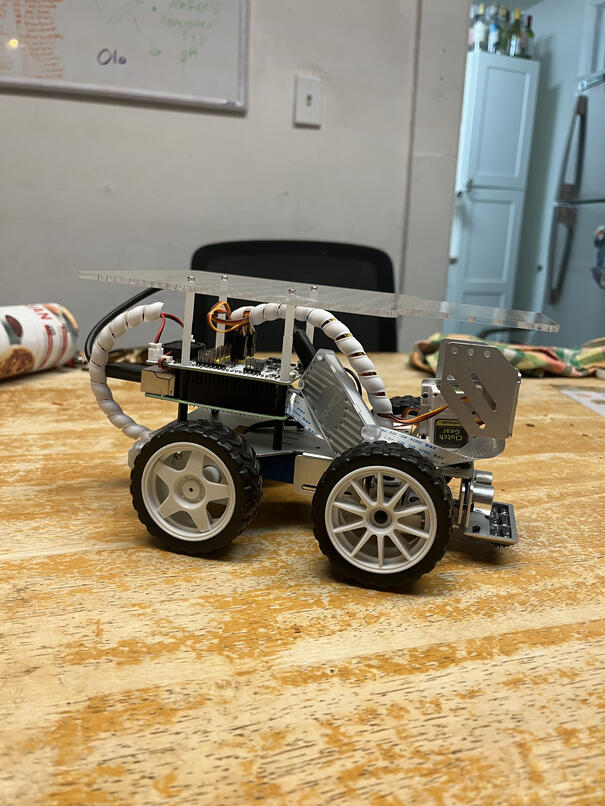vehicle: (75, 265, 563, 592)
